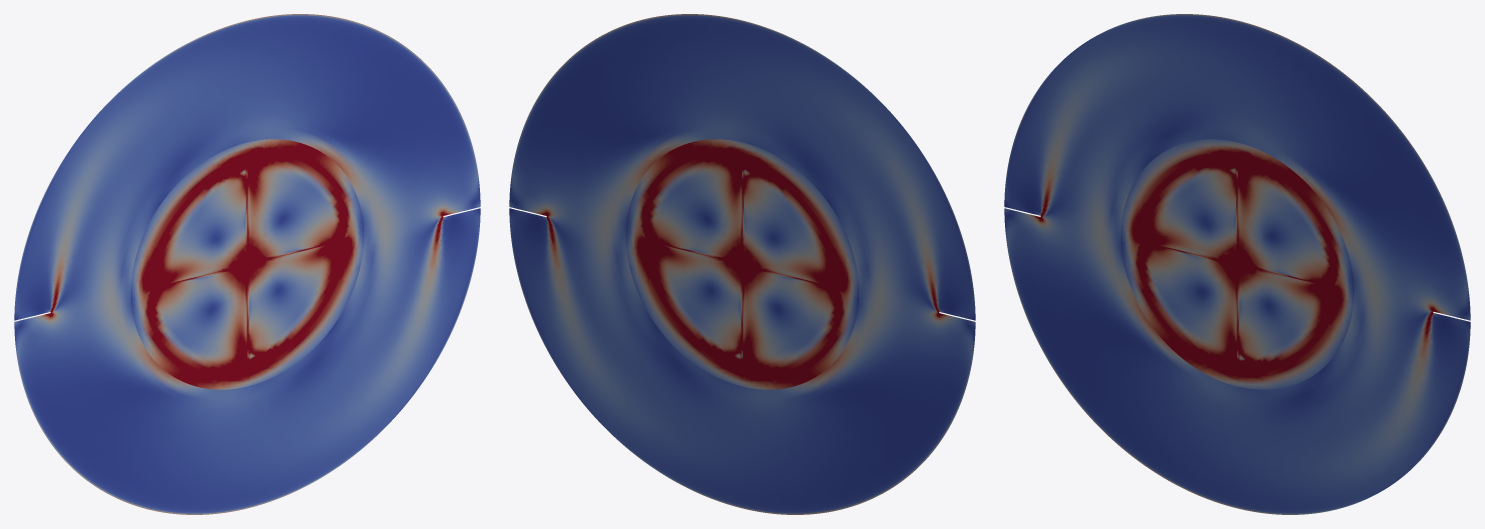
Rendered from shear_c51.fbx.
The picture shows the model from 3 angles, left to right: view 1: azimuth 30°, elevation 25°; view 2: azimuth 150°, elevation 25°; view 3: azimuth 330°, elevation 25°; orthographic projection.
Visible parts, largest first — view 1: Shape_IndexedFaceSet.021; view 2: Shape_IndexedFaceSet.021; view 3: Shape_IndexedFaceSet.021.
Boxes of the visible parts, left/top/right/bottom form: Shape_IndexedFaceSet.021: left=14, top=14, right=480, bottom=514; Shape_IndexedFaceSet.021: left=509, top=14, right=975, bottom=514; Shape_IndexedFaceSet.021: left=1004, top=14, right=1470, bottom=514.
Bounding box in the file's own units: 100 × 100 × 2.22e-05.
